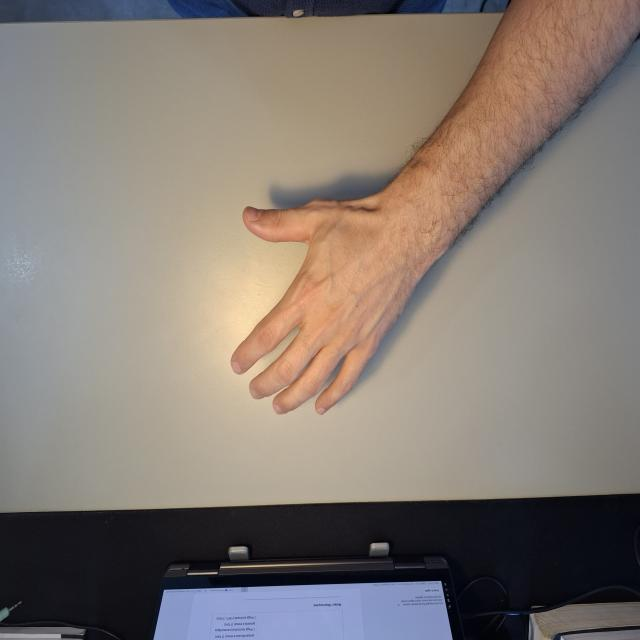glove_off: (228, 194, 422, 418)
